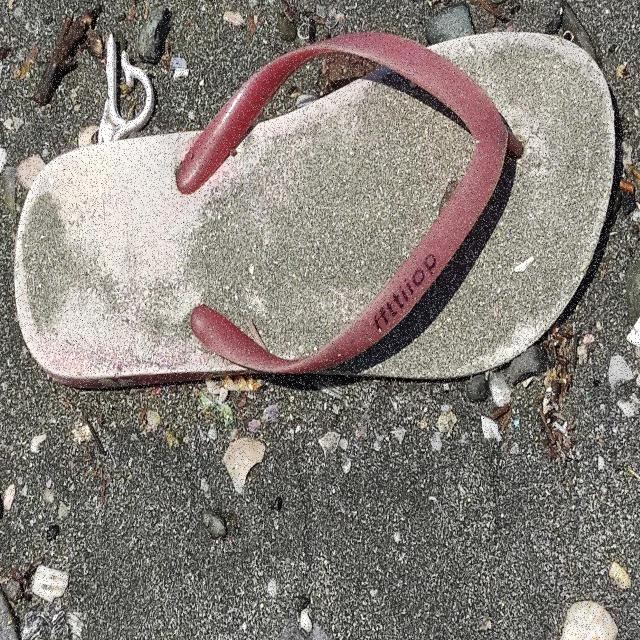rubber_waste: (13, 32, 620, 399)
